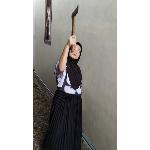Kapak: (66, 3, 84, 53)
